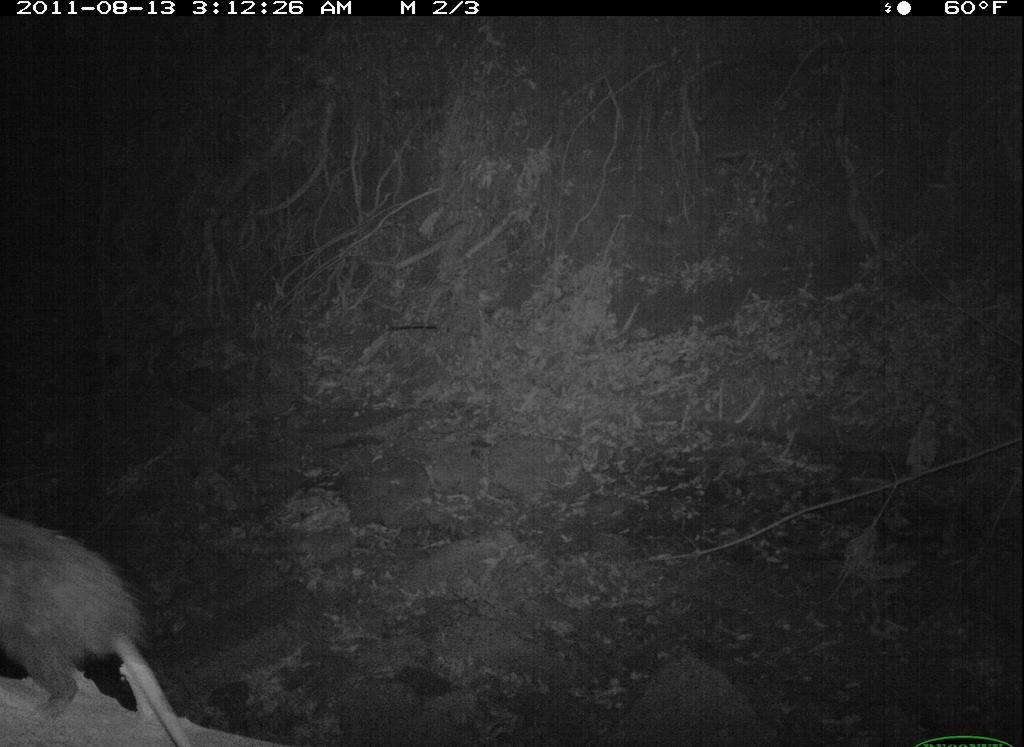opossum: (6, 504, 201, 747)
